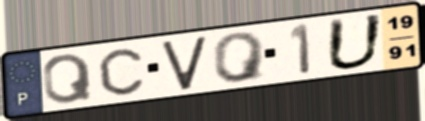1: (288, 21, 314, 76)
C: (96, 46, 147, 97)
Q: (210, 29, 268, 85), (41, 51, 96, 106)
U: (323, 12, 387, 72)
V: (159, 33, 209, 92)
